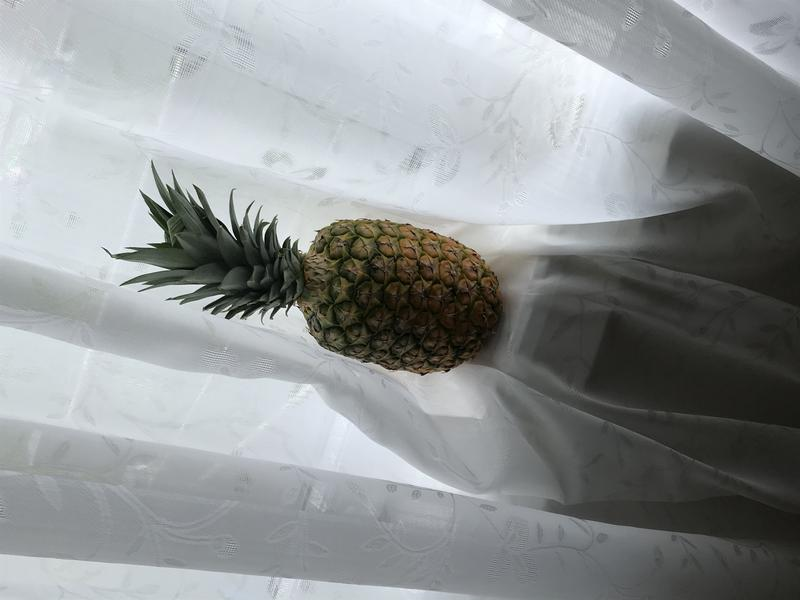pineapple: (85, 162, 514, 394)
